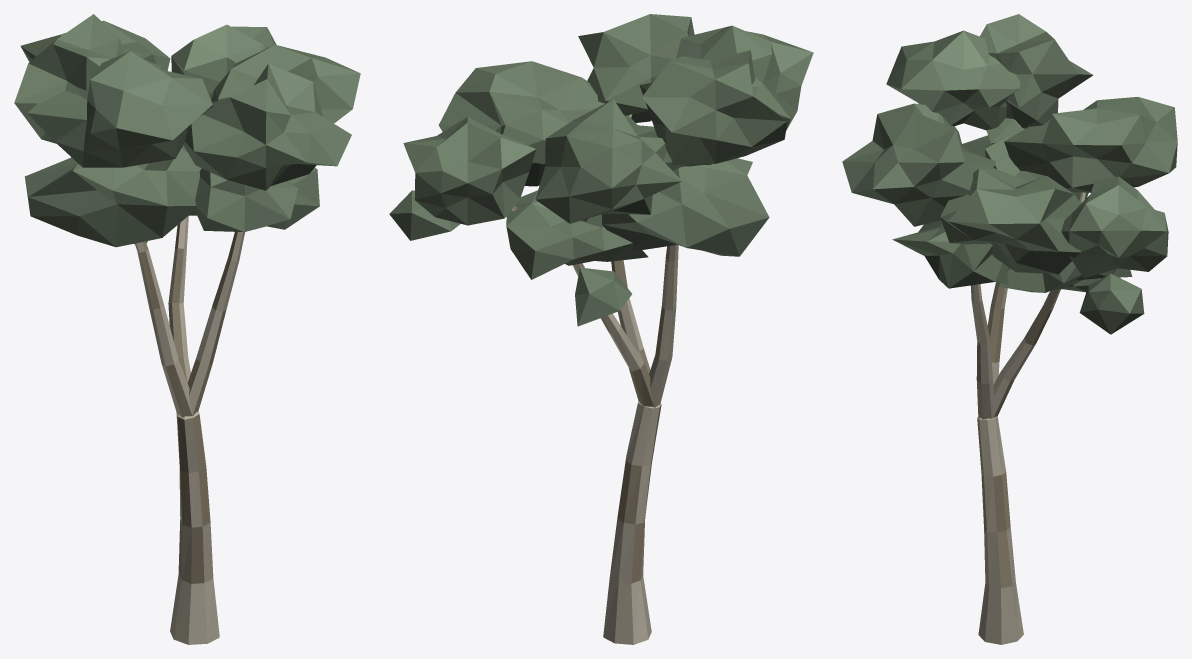
File: eucalyptus.glb
The picture shows the model from 3 angles, left to right: view 1: azimuth 30°, elevation 25°; view 2: azimuth 150°, elevation 25°; view 3: azimuth 270°, elevation 25°; orthographic projection. The views are drawn at different scales.
Parts seen in each view (by area): view 1: eucalyptus; view 2: eucalyptus; view 3: eucalyptus.
Part boxes in pixels (x1,y1,x2,y2): eucalyptus: [14, 14, 360, 644]; eucalyptus: [389, 14, 813, 644]; eucalyptus: [842, 14, 1177, 644].
Bounding box in the file's own units: 13.79 × 23.99 × 12.89.
